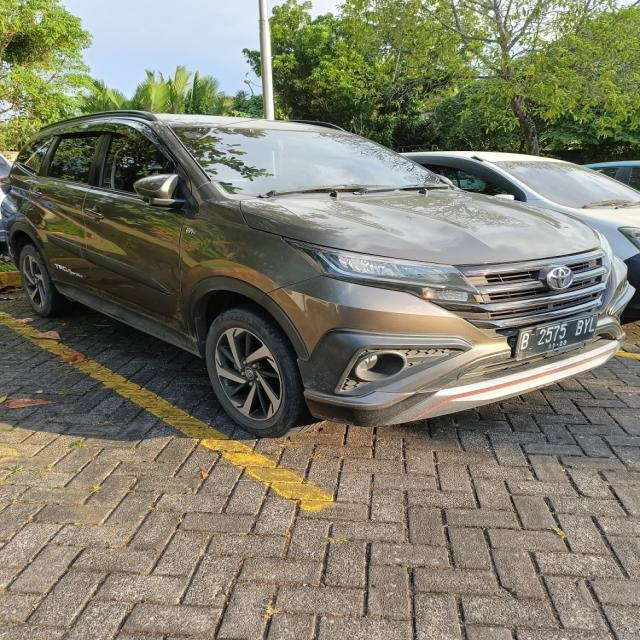plates: (516, 317, 600, 358)
